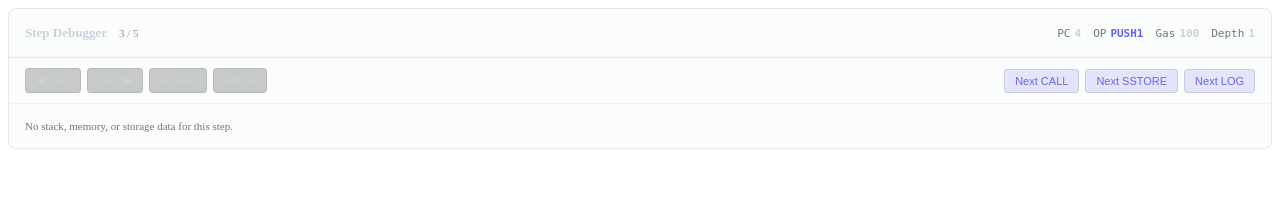
Test case: StepDebugger — button navigation › jumps to start and end
Click the button titled "Jump to end": (240,80) [213, 68, 267, 93]
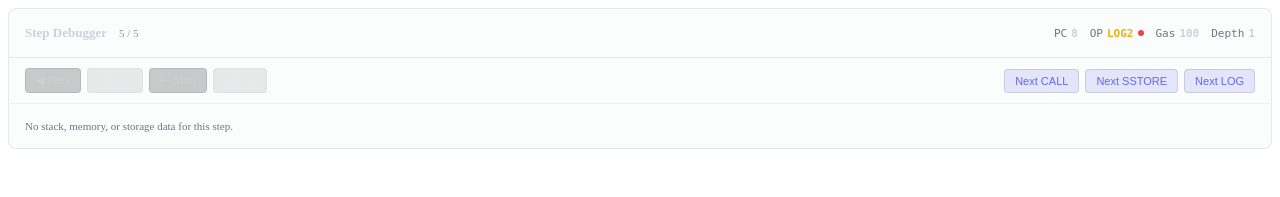
Expected: the text "5 / 5" is shown, [119, 27, 139, 39]
Click the button titled "Jump to start": (178,80) [149, 68, 207, 93]
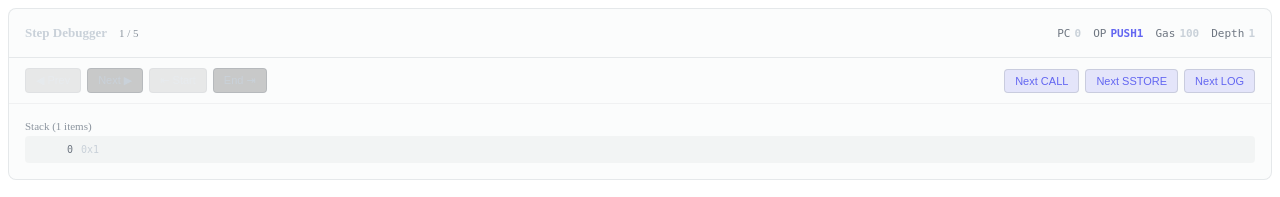
Now the text "1 / 5" is shown, box [119, 27, 139, 39]
